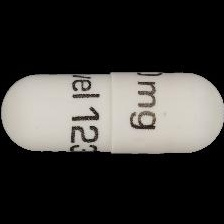63187-497: (0, 0, 224, 224)
